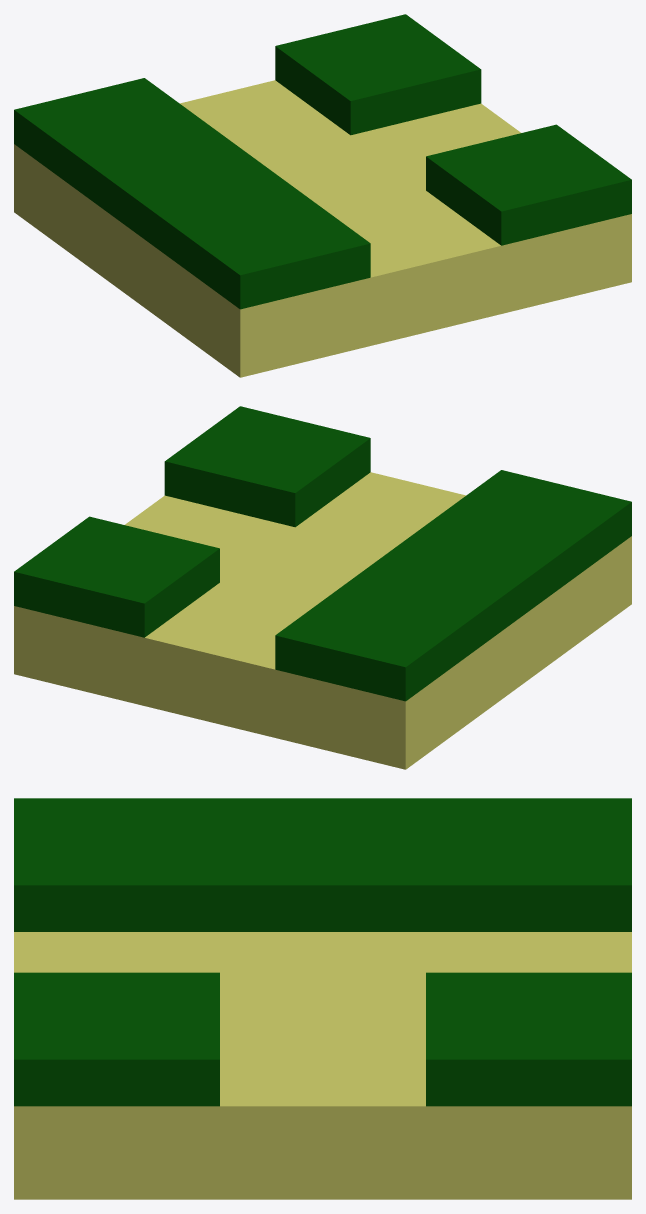
Rendered from StraightLeft.fbx.
3 renders of one model, top to bottom at view 1: azimuth 30°, elevation 25°; view 2: azimuth 150°, elevation 25°; view 3: azimuth 270°, elevation 25°, orthographic. The views are drawn at different scales.
Parts seen in each view (by area): view 1: Cube; view 2: Cube; view 3: Cube.
Part boxes in pixels (x1,y1,x2,y2): Cube: [14, 14, 631, 377]; Cube: [14, 406, 631, 769]; Cube: [14, 798, 631, 1199].
Size of the model in its own units: 1200 by 300 by 1200.
